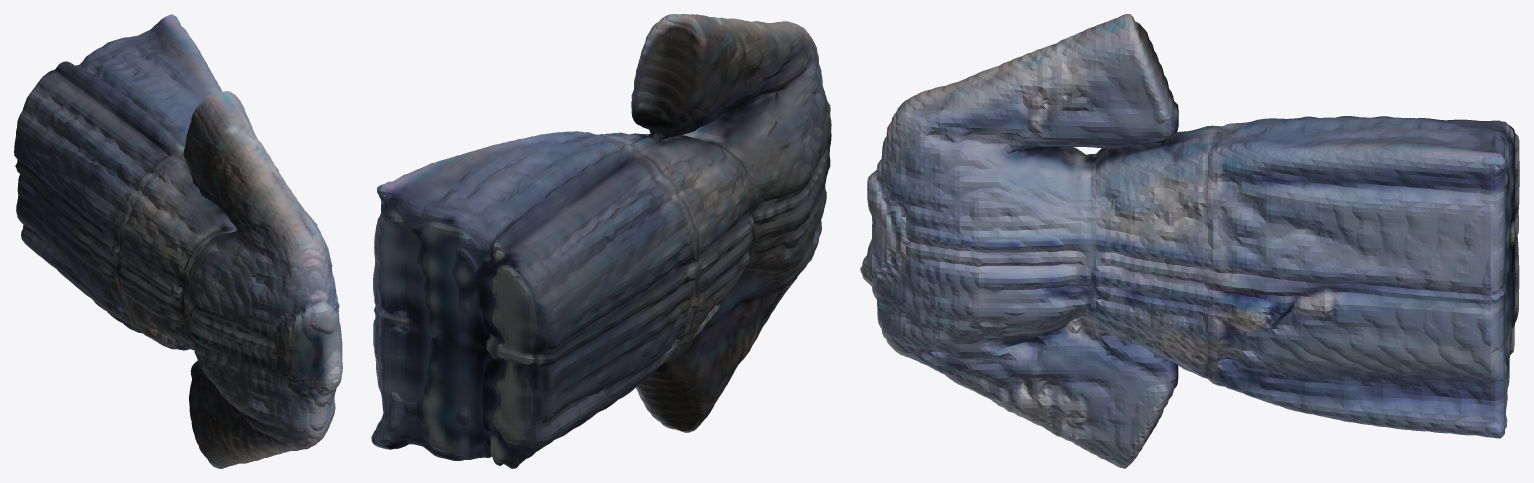
3 renders of one model, left to right at view 1: azimuth 30°, elevation 25°; view 2: azimuth 150°, elevation 25°; view 3: azimuth 270°, elevation 25°, orthographic. The views are drawn at different scales.
Bounding box in the file's own units: 0.3646 × 0.6862 × 0.9233.
